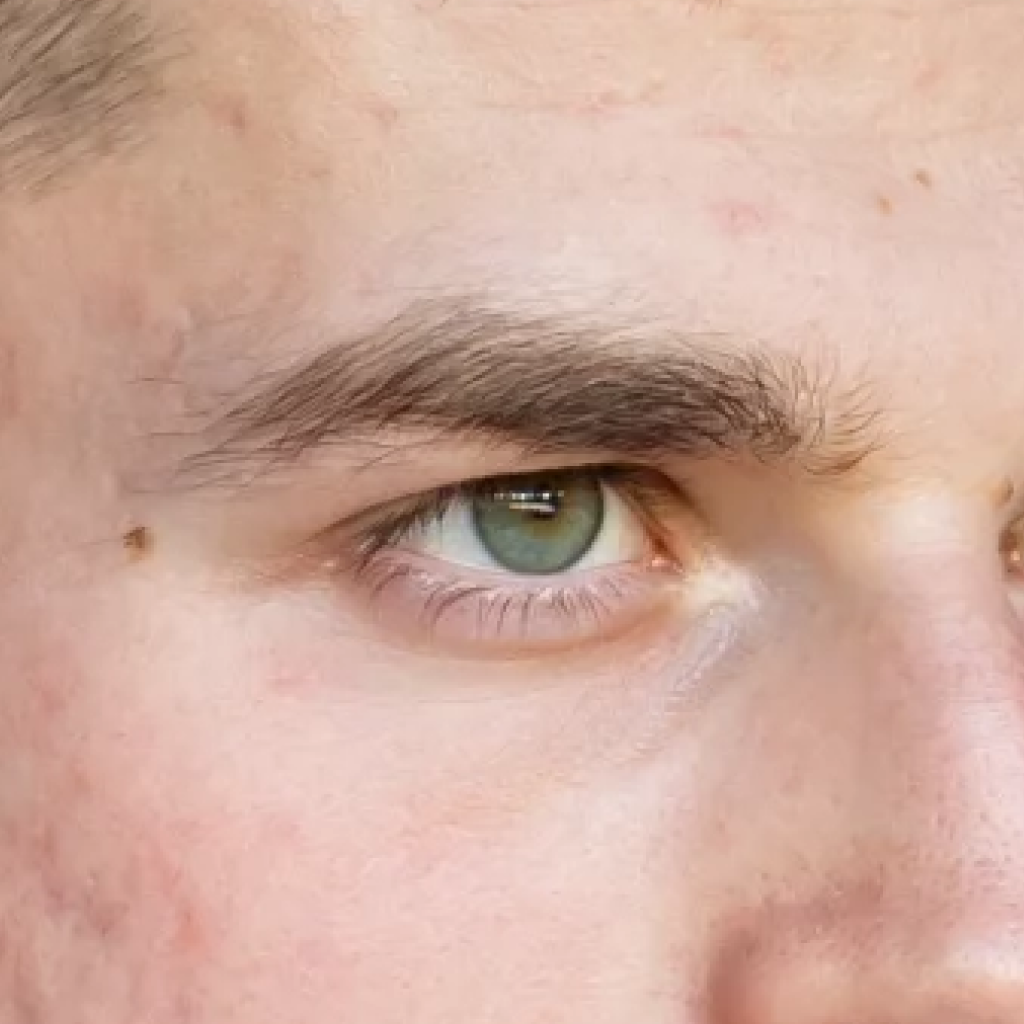iris: (476, 473, 602, 572)
pupil: (526, 486, 559, 518)
sclera: (560, 473, 659, 573), (411, 492, 508, 570)
